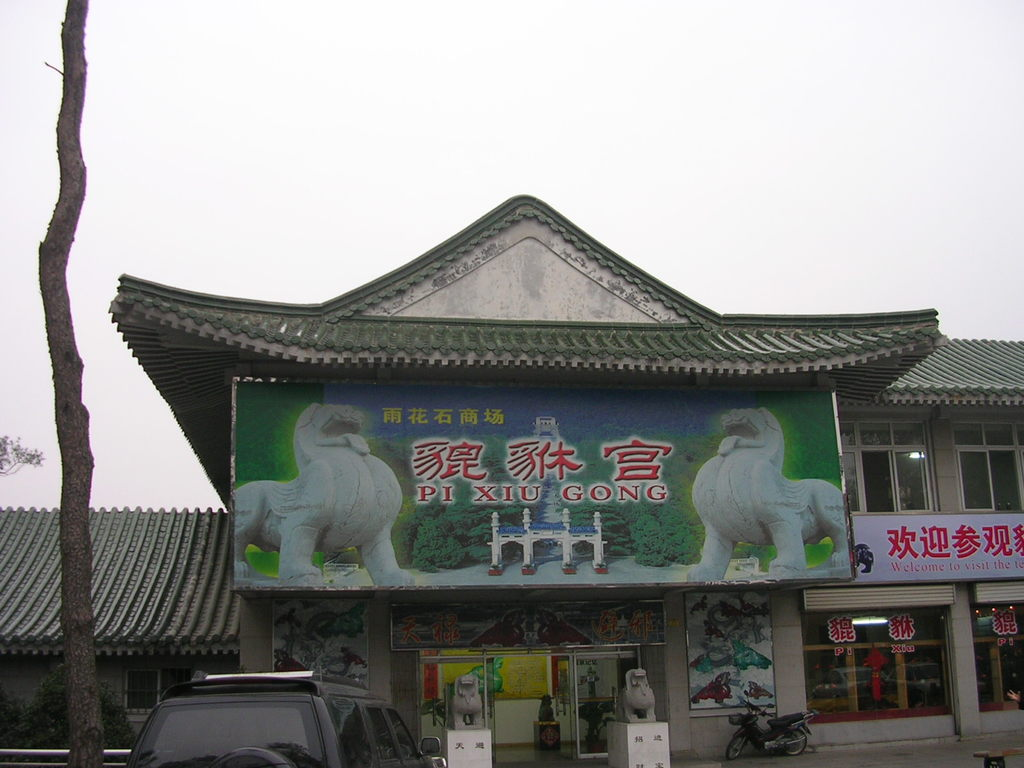Car: (123, 664, 446, 767)
